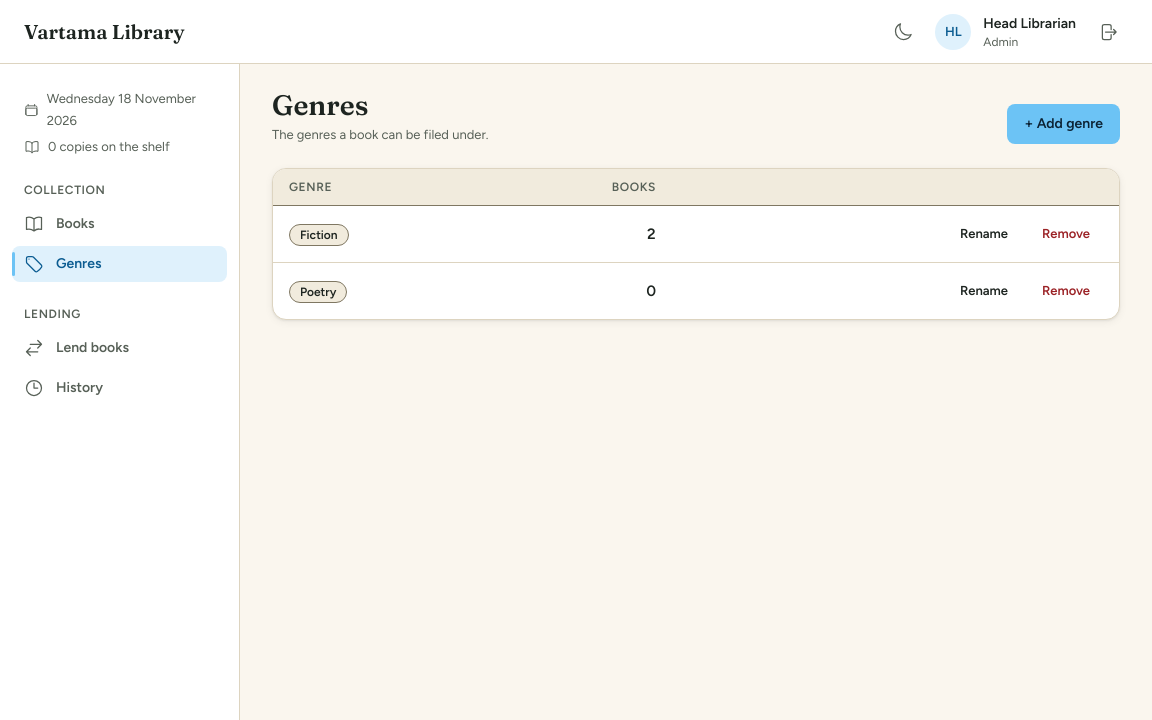
Scenario: Genres page (admin) › renames a genre
expect the text "Fiction" is shown: met, box [289,224,349,246]
Click the button with aria-label "Rename Fiction": (984, 234) [947,218,1021,250]
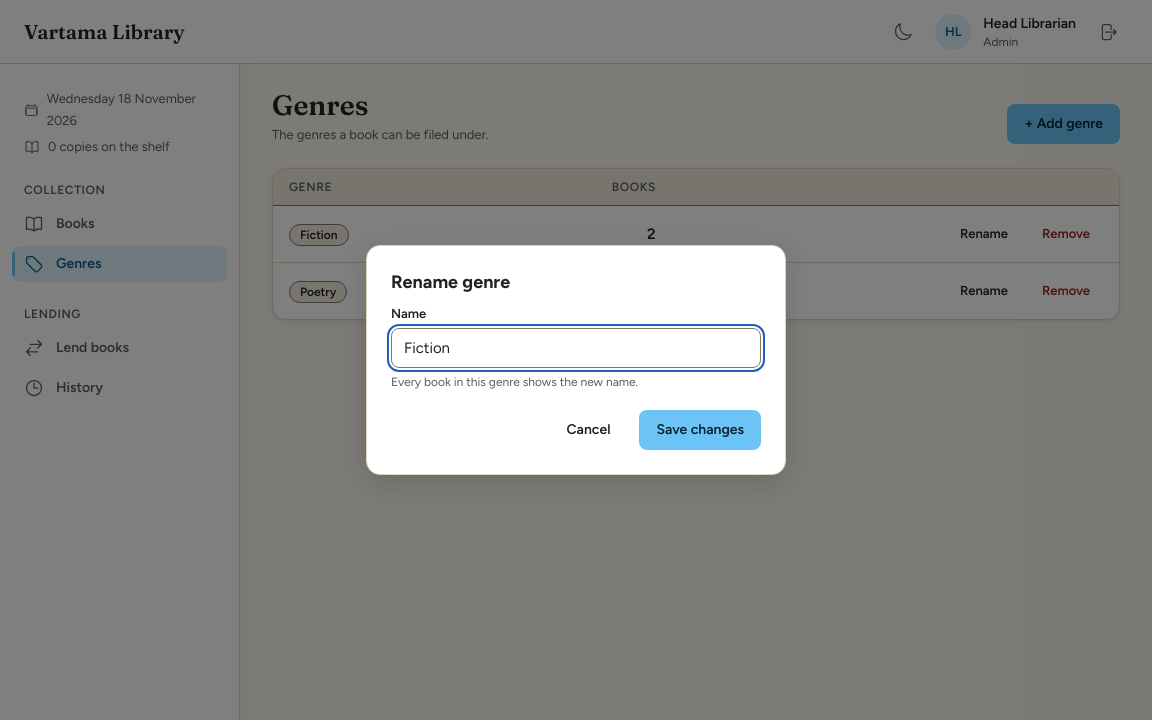
expect the field labelled "Name" holds "Fiction": met
Replace the text in the field labelled "Name" with "Novels": (576, 348) [391,328,761,368]
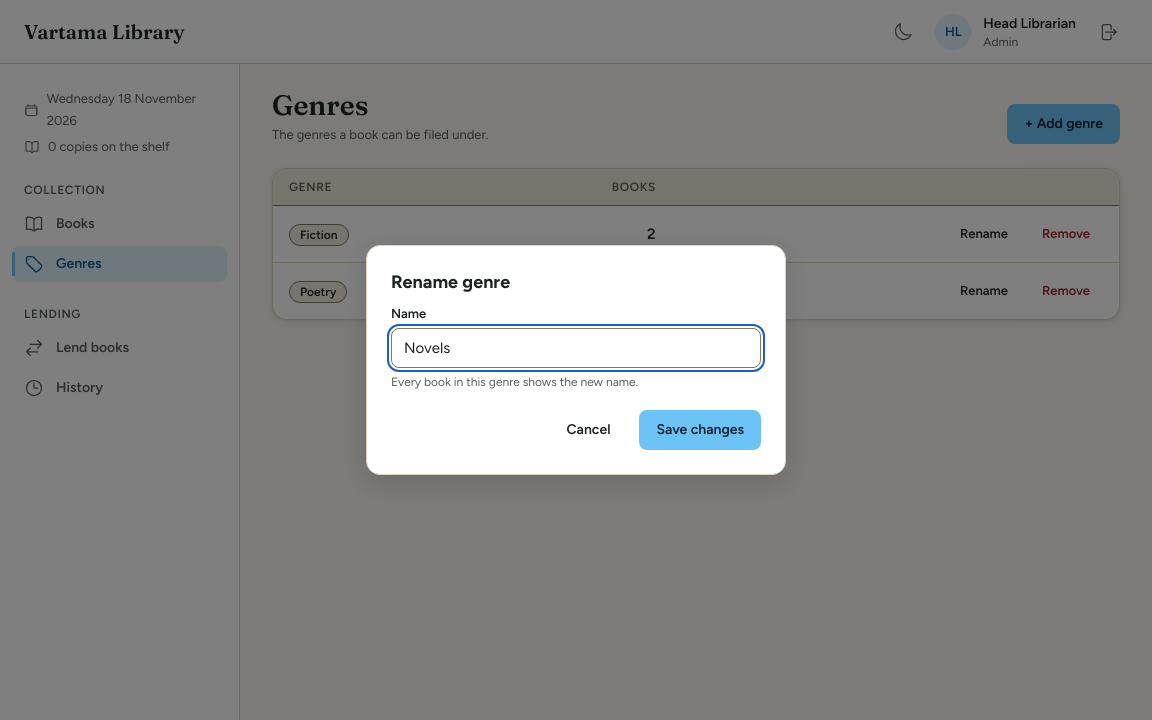
Click the button "Save changes": (700, 430) [640,410,761,450]
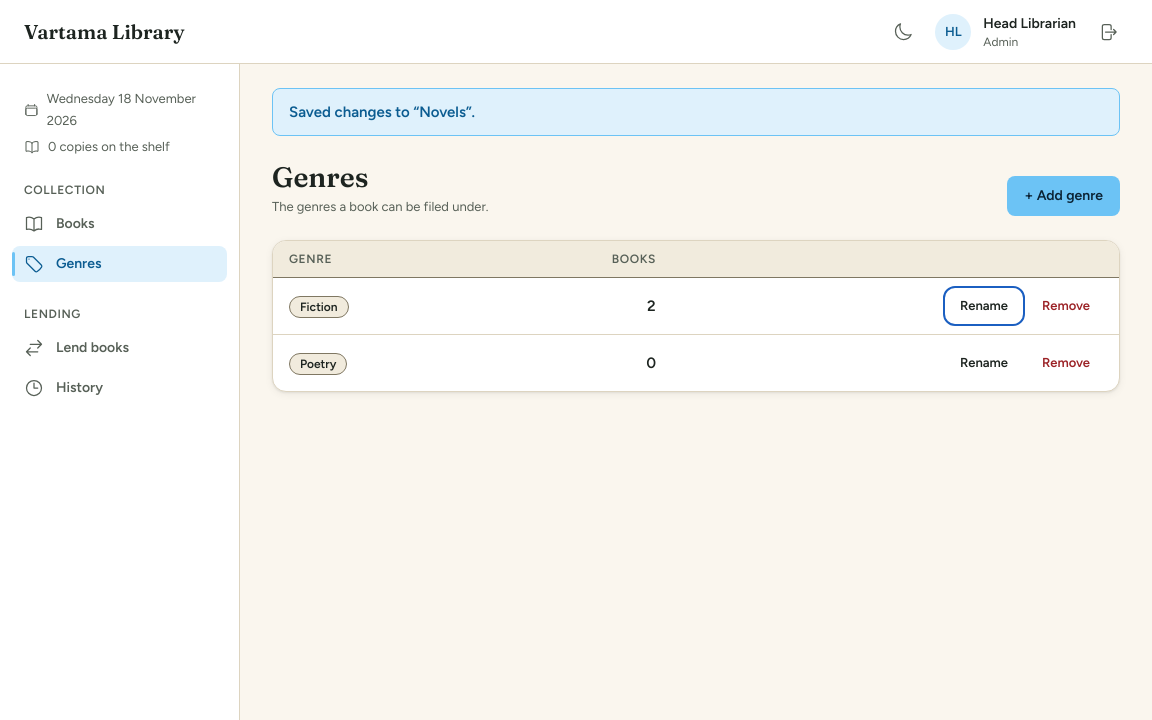
expect the message reads "Saved changes to “Novels”.": met, box [289,103,475,121]
